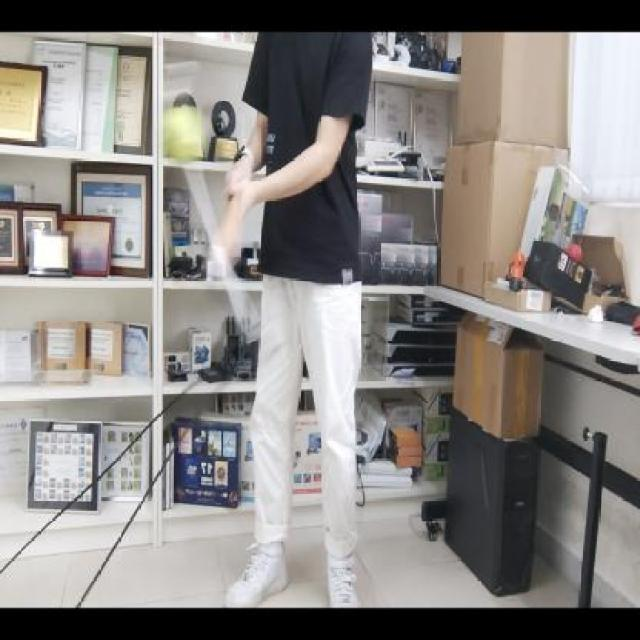baseball: (162, 105, 201, 162)
